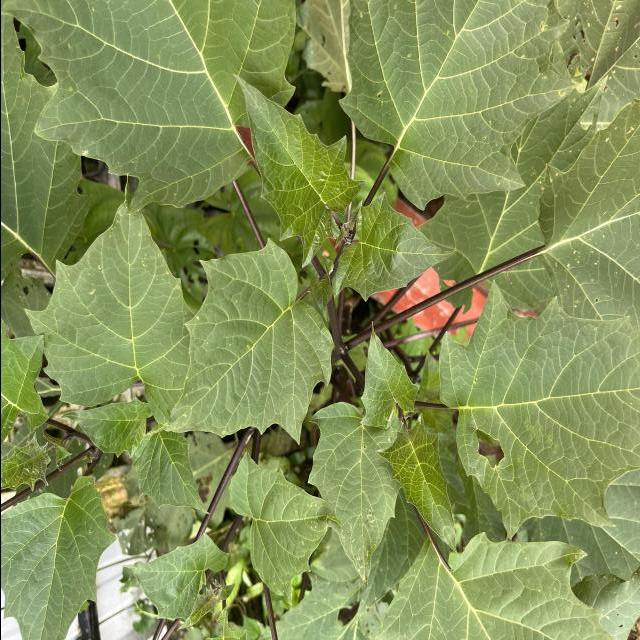Datura metal linn: (20, 171, 195, 425), (140, 235, 336, 449), (229, 71, 368, 271), (225, 447, 344, 608), (332, 188, 457, 304), (373, 411, 461, 557), (356, 318, 422, 432), (127, 432, 210, 518), (58, 394, 150, 460)
